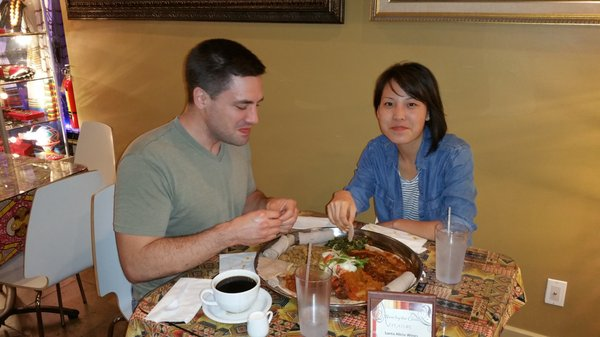sushi: (212, 270, 260, 313)
